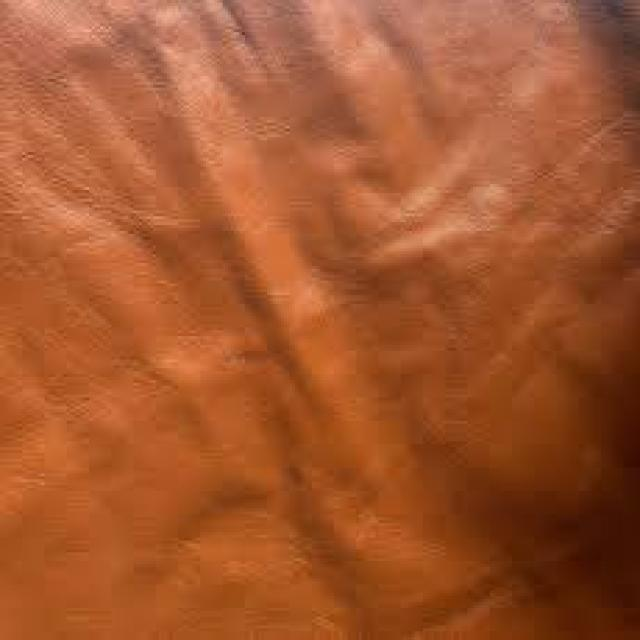Crease: (217, 113, 346, 497), (365, 172, 496, 276)
